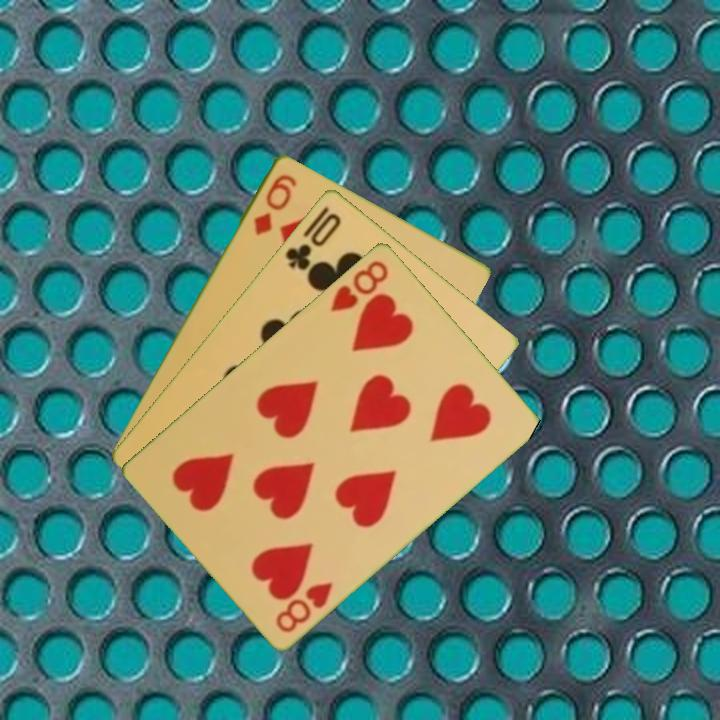10c: (281, 208, 345, 273)
6d: (250, 170, 300, 238)
8h: (326, 256, 392, 315), (272, 577, 336, 635)
